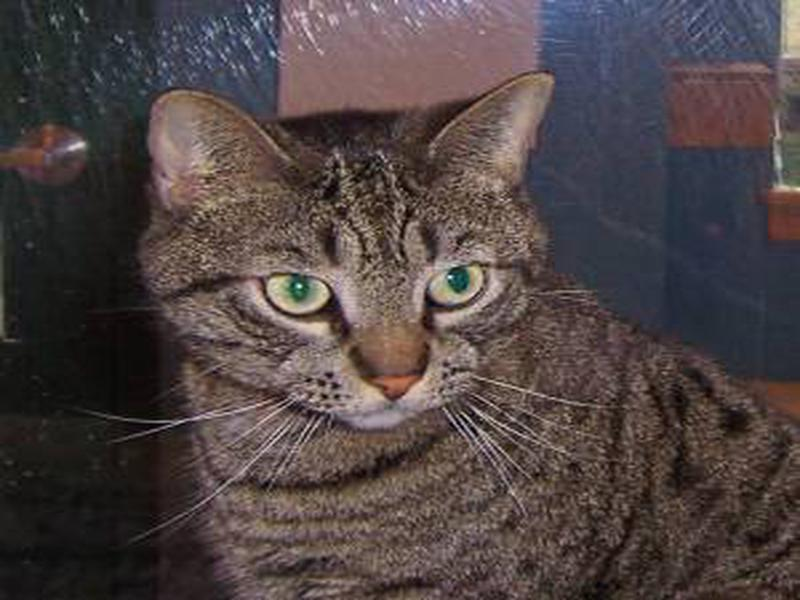cat: (99, 61, 789, 592)
